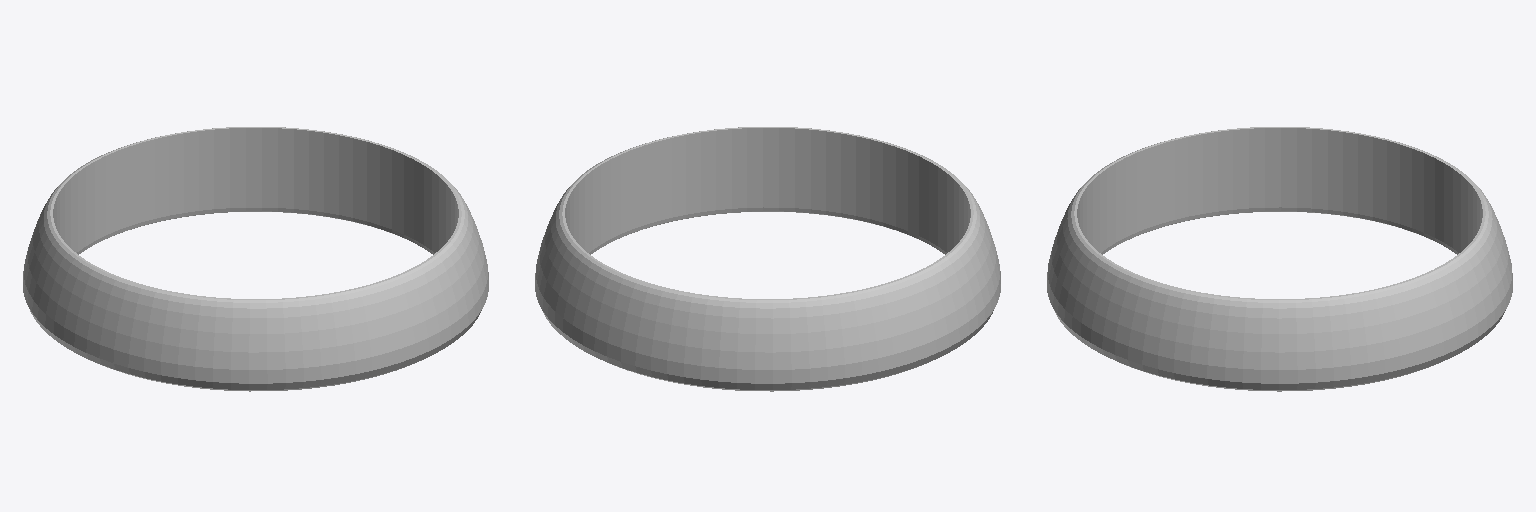
File: R-Ring3.obj
3 views of the same model, side by side, from view 1: azimuth 30°, elevation 25°; view 2: azimuth 150°, elevation 25°; view 3: azimuth 270°, elevation 25° (orthographic).
Parts seen in each view (by area): view 1: pCylinder10 pCylinder4SmoothProxyGroup; view 2: pCylinder10 pCylinder4SmoothProxyGroup; view 3: pCylinder10 pCylinder4SmoothProxyGroup.
Part boxes in pixels (bbox=[...]): pCylinder10 pCylinder4SmoothProxyGroup: bbox=[23, 127, 488, 391]; pCylinder10 pCylinder4SmoothProxyGroup: bbox=[535, 127, 1000, 391]; pCylinder10 pCylinder4SmoothProxyGroup: bbox=[1047, 127, 1512, 391].
Bounding box in the file's own units: 2.07 × 0.4159 × 2.07.